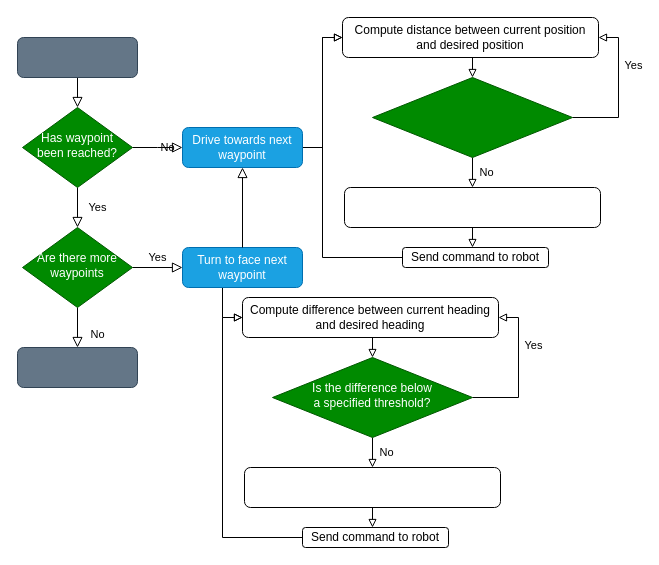
Some shapes in this 659 by 565 pixel diagram are drawn without their labels. The shapes that lost their labels are listed below. From the top down, each one's box as (x1, y1, x2, y2) in pixels, then its label:
(16, 36, 138, 78): Start Node
(372, 76, 572, 158): Is the distance below a specified threshold?
(344, 186, 600, 228): Multiply distance by a proportional constant to compute linear command
(16, 346, 138, 388): Exit Node
(244, 466, 500, 508): Multiply difference by a proportional constant to compute angular command
